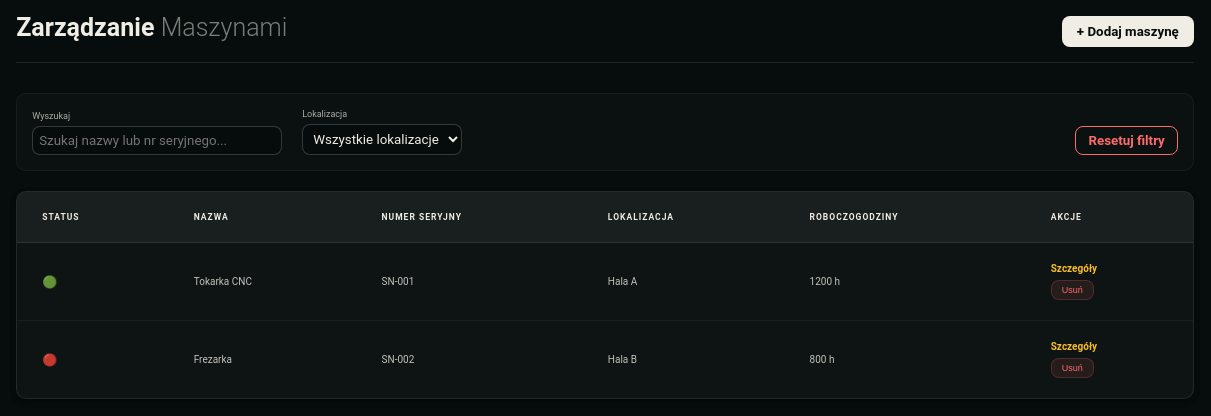
MachinesPage › usuwanie maszyny › usuwa maszynę z listy po pomyślnym usunięciu
Expected: the text "Tokarka CNC" is shown, [169,242,357,320]
What coordinates should you click on to do the following:
click the button "Usuń" in the row of "Tokarka CNC"
I would click on:
 (1072, 290)
Its box is [1051,280,1094,300].
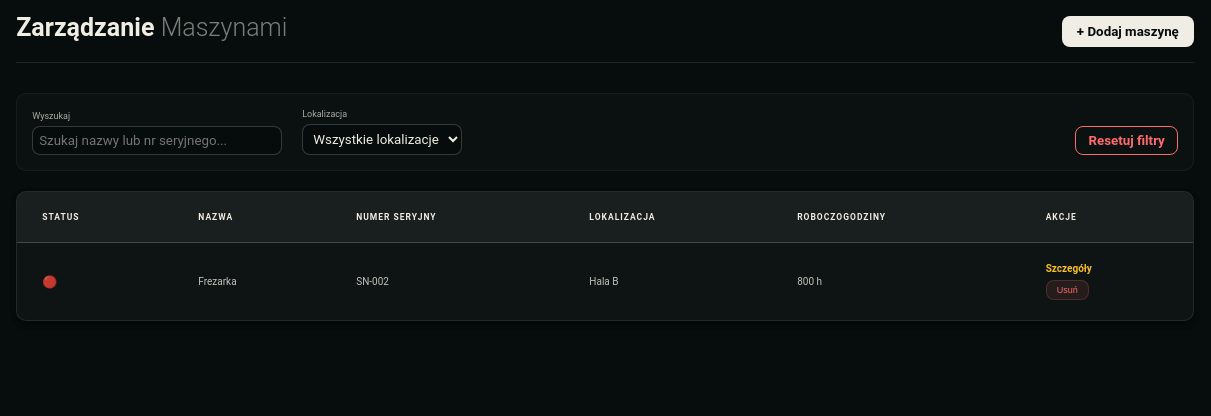
Expected: the text "Tokarka CNC" is gone
